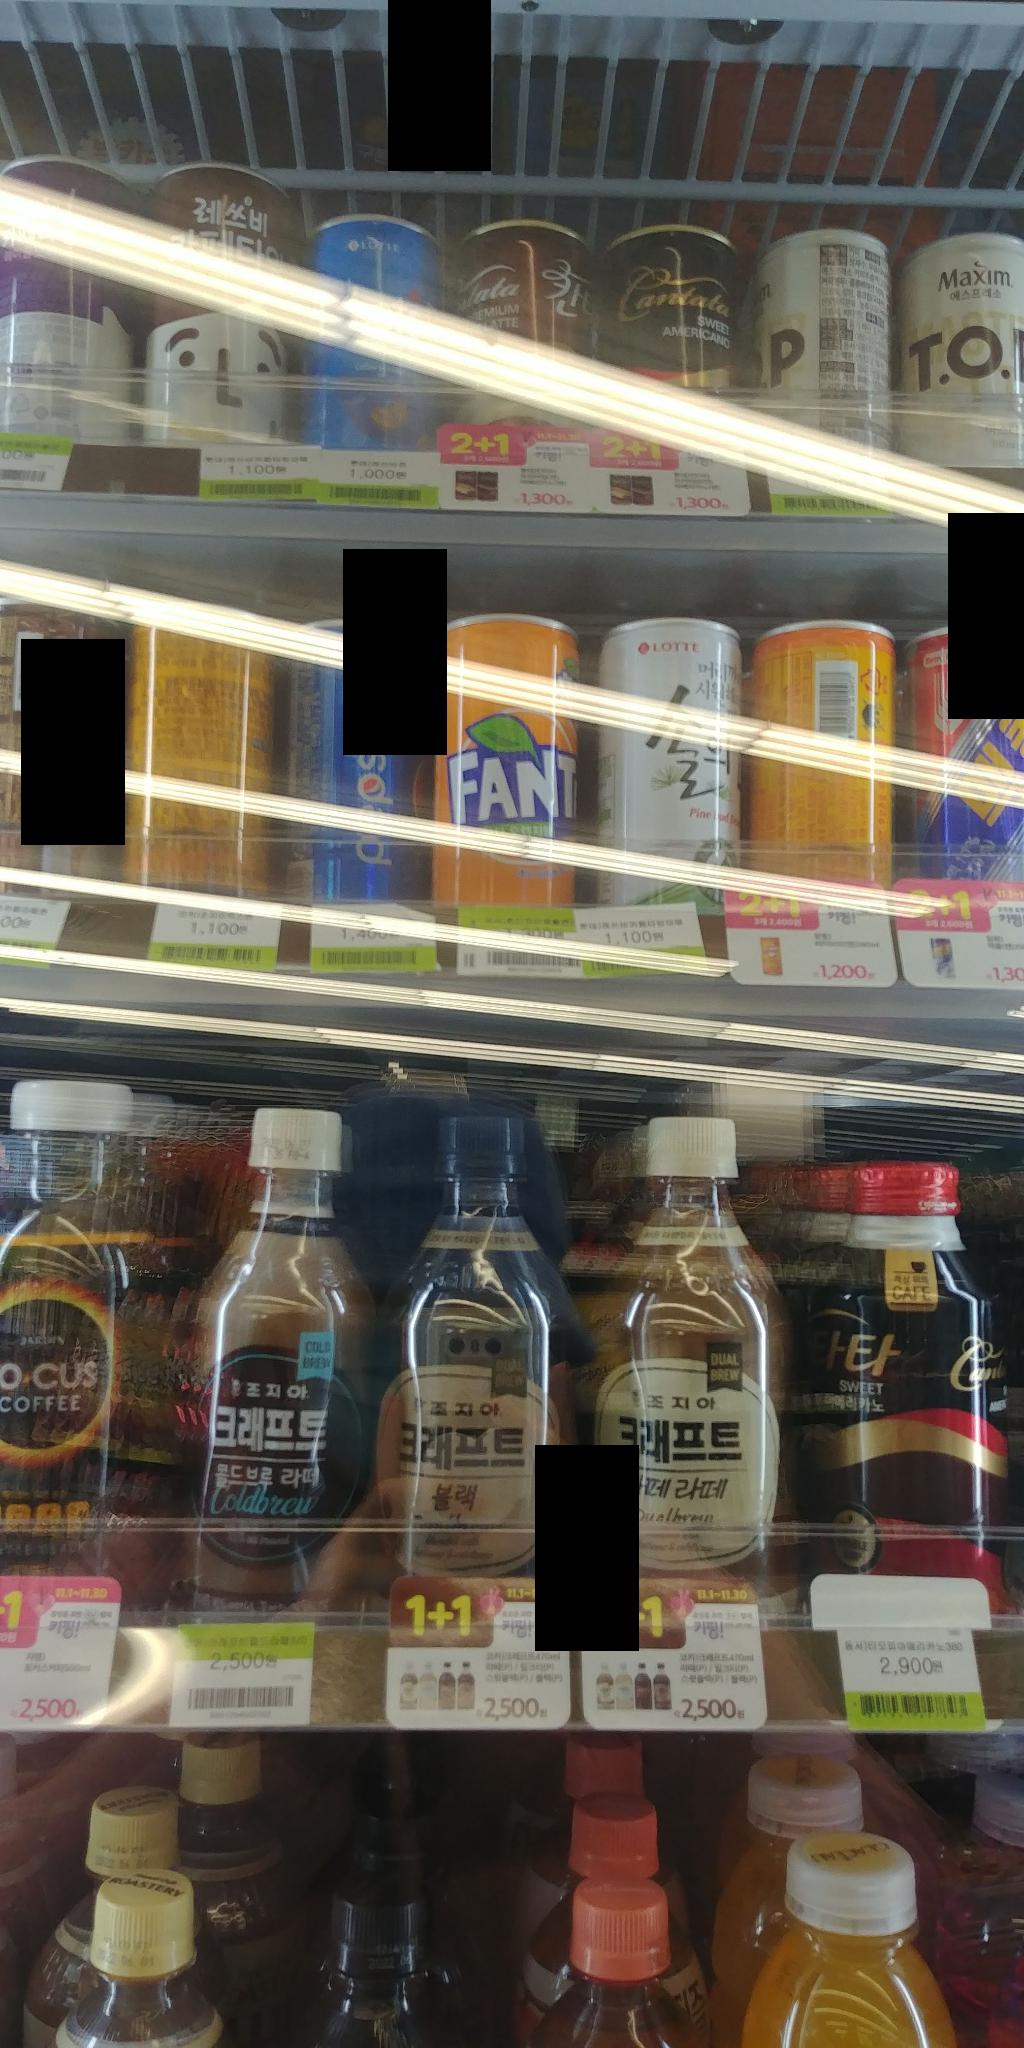georgiacraft_black: (363, 1110, 571, 1593)
letsbe: (303, 202, 443, 470)
